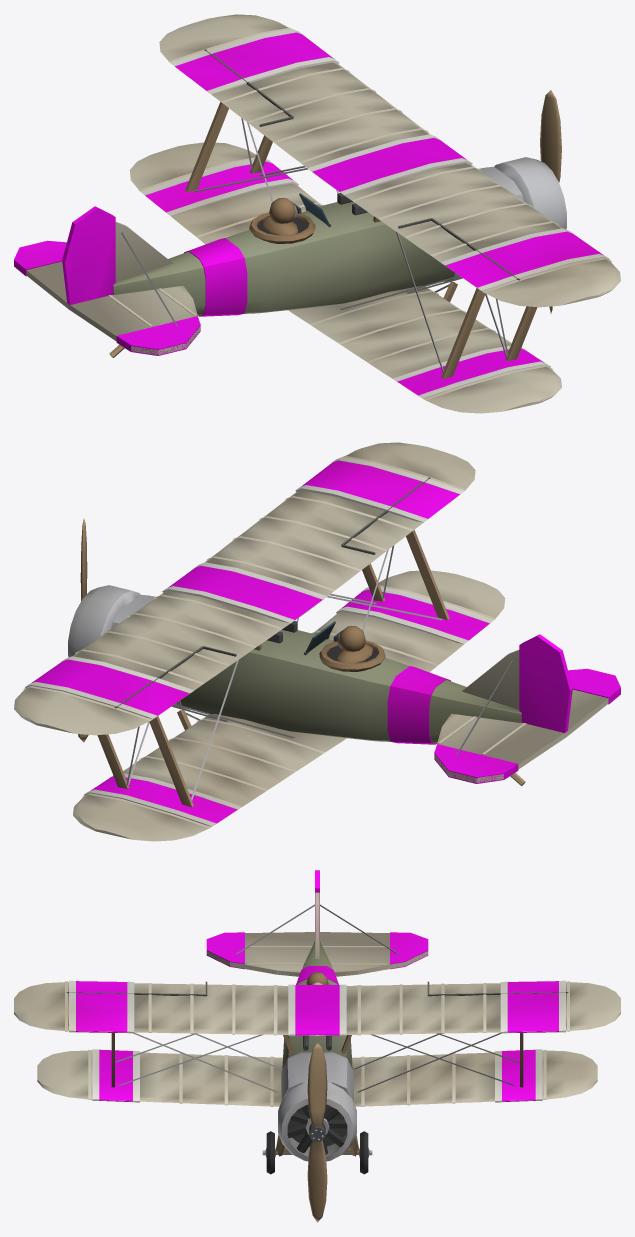
The model's file is biplane.glb.
The picture shows the model from 3 angles, top to bottom: view 1: azimuth 30°, elevation 25°; view 2: azimuth 150°, elevation 25°; view 3: azimuth 270°, elevation 25°; orthographic projection. The views are drawn at different scales.
Parts seen in each view (by area): view 1: Body, Propeller; view 2: Body; view 3: Body, Propeller.
Part boxes in pixels (x1=…): Body: x1=14, y1=14, x2=620, y2=413; Propeller: x1=540, y1=90, x2=561, y2=313; Body: x1=14, y1=442, x2=620, y2=841; Body: x1=14, y1=870, x2=620, y2=1174; Propeller: x1=307, y1=1043, x2=327, y2=1222.
Size of the model in its own units: 3.91 by 1.8 by 5.2.
1 material, 1 textured.
